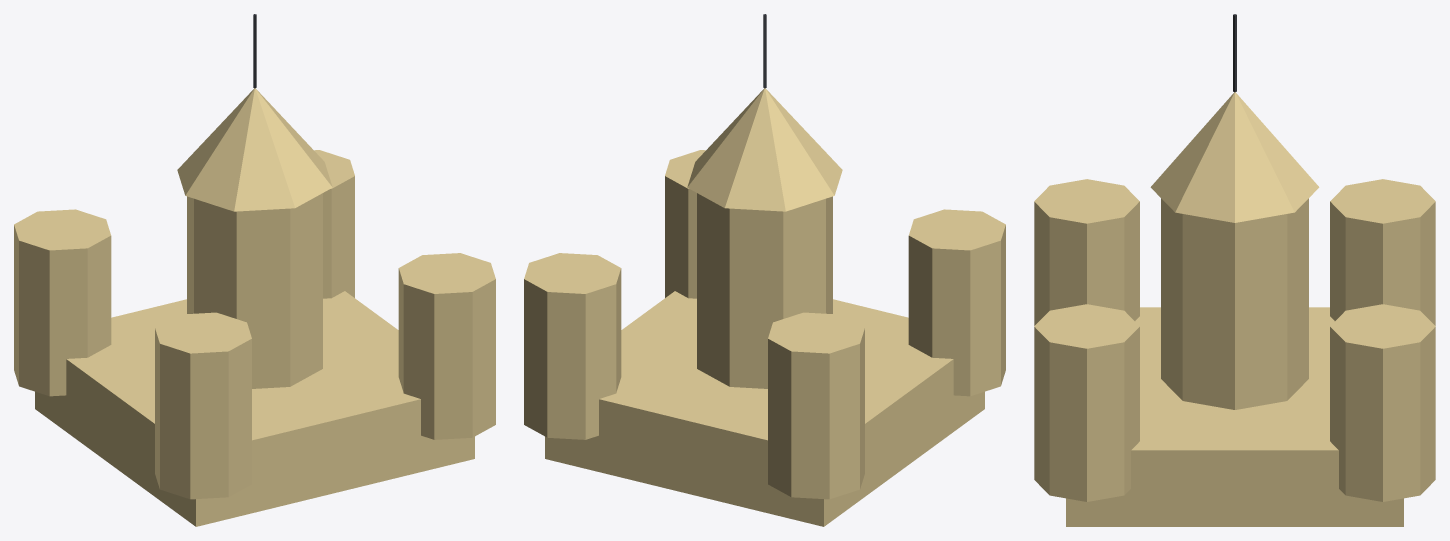
File: sandcastle.glb
The picture shows the model from 3 angles, left to right: view 1: azimuth 30°, elevation 25°; view 2: azimuth 150°, elevation 25°; view 3: azimuth 270°, elevation 25°; orthographic projection. The views are drawn at different scales.
Parts seen in each view (by area): view 1: sandcastle; view 2: sandcastle; view 3: sandcastle.
Part boxes in pixels (x1,y1,x2,y2): sandcastle: [14, 14, 495, 526]; sandcastle: [524, 14, 1005, 526]; sandcastle: [1034, 14, 1435, 526].
Bounding box in the file's own units: 1.9 × 2.3 × 1.9.
